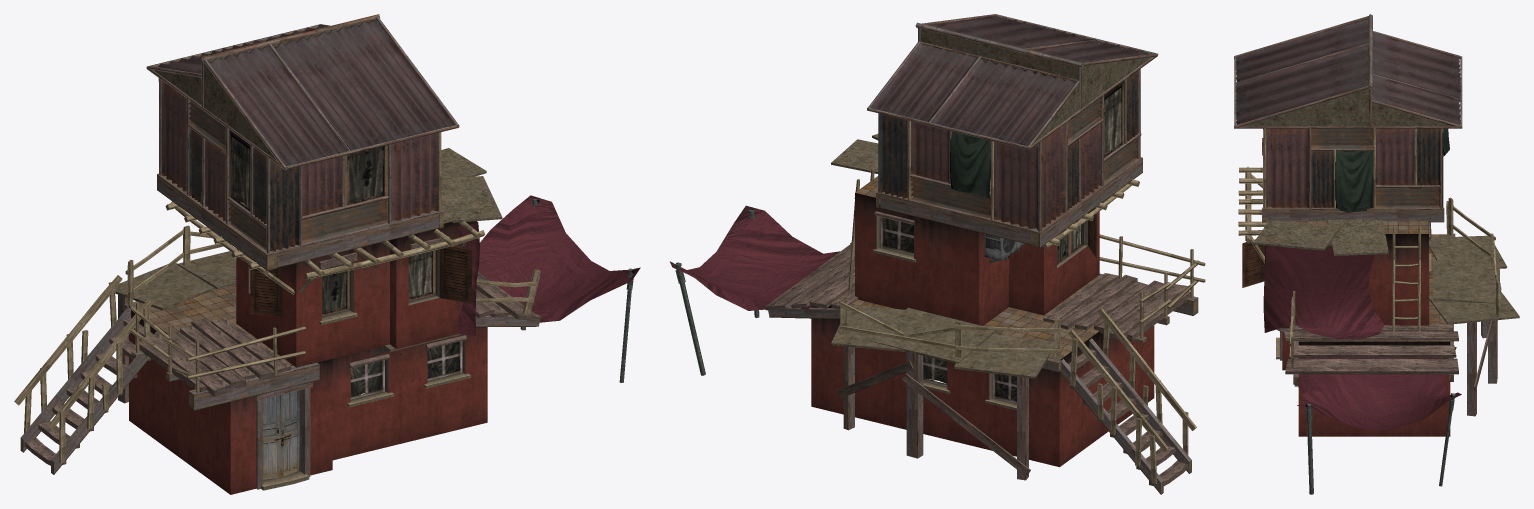
Rendered from rustborn_-_house_model.glb.
3 views of the same model, side by side, from view 1: azimuth 30°, elevation 25°; view 2: azimuth 150°, elevation 25°; view 3: azimuth 270°, elevation 25° (orthographic). The views are drawn at different scales.
Parts seen in each view (by area): view 1: PlankBig59; view 2: PlankBig59; view 3: PlankBig59.
Part boxes in pixels (box(x1,y1,x2,y2)): PlankBig59: box(14, 14, 640, 494); PlankBig59: box(670, 14, 1205, 494); PlankBig59: box(1234, 14, 1519, 494).
Bounding box in the file's own units: 13.03 × 9.12 × 7.21.
Materials: 7 (7 with a texture image).
